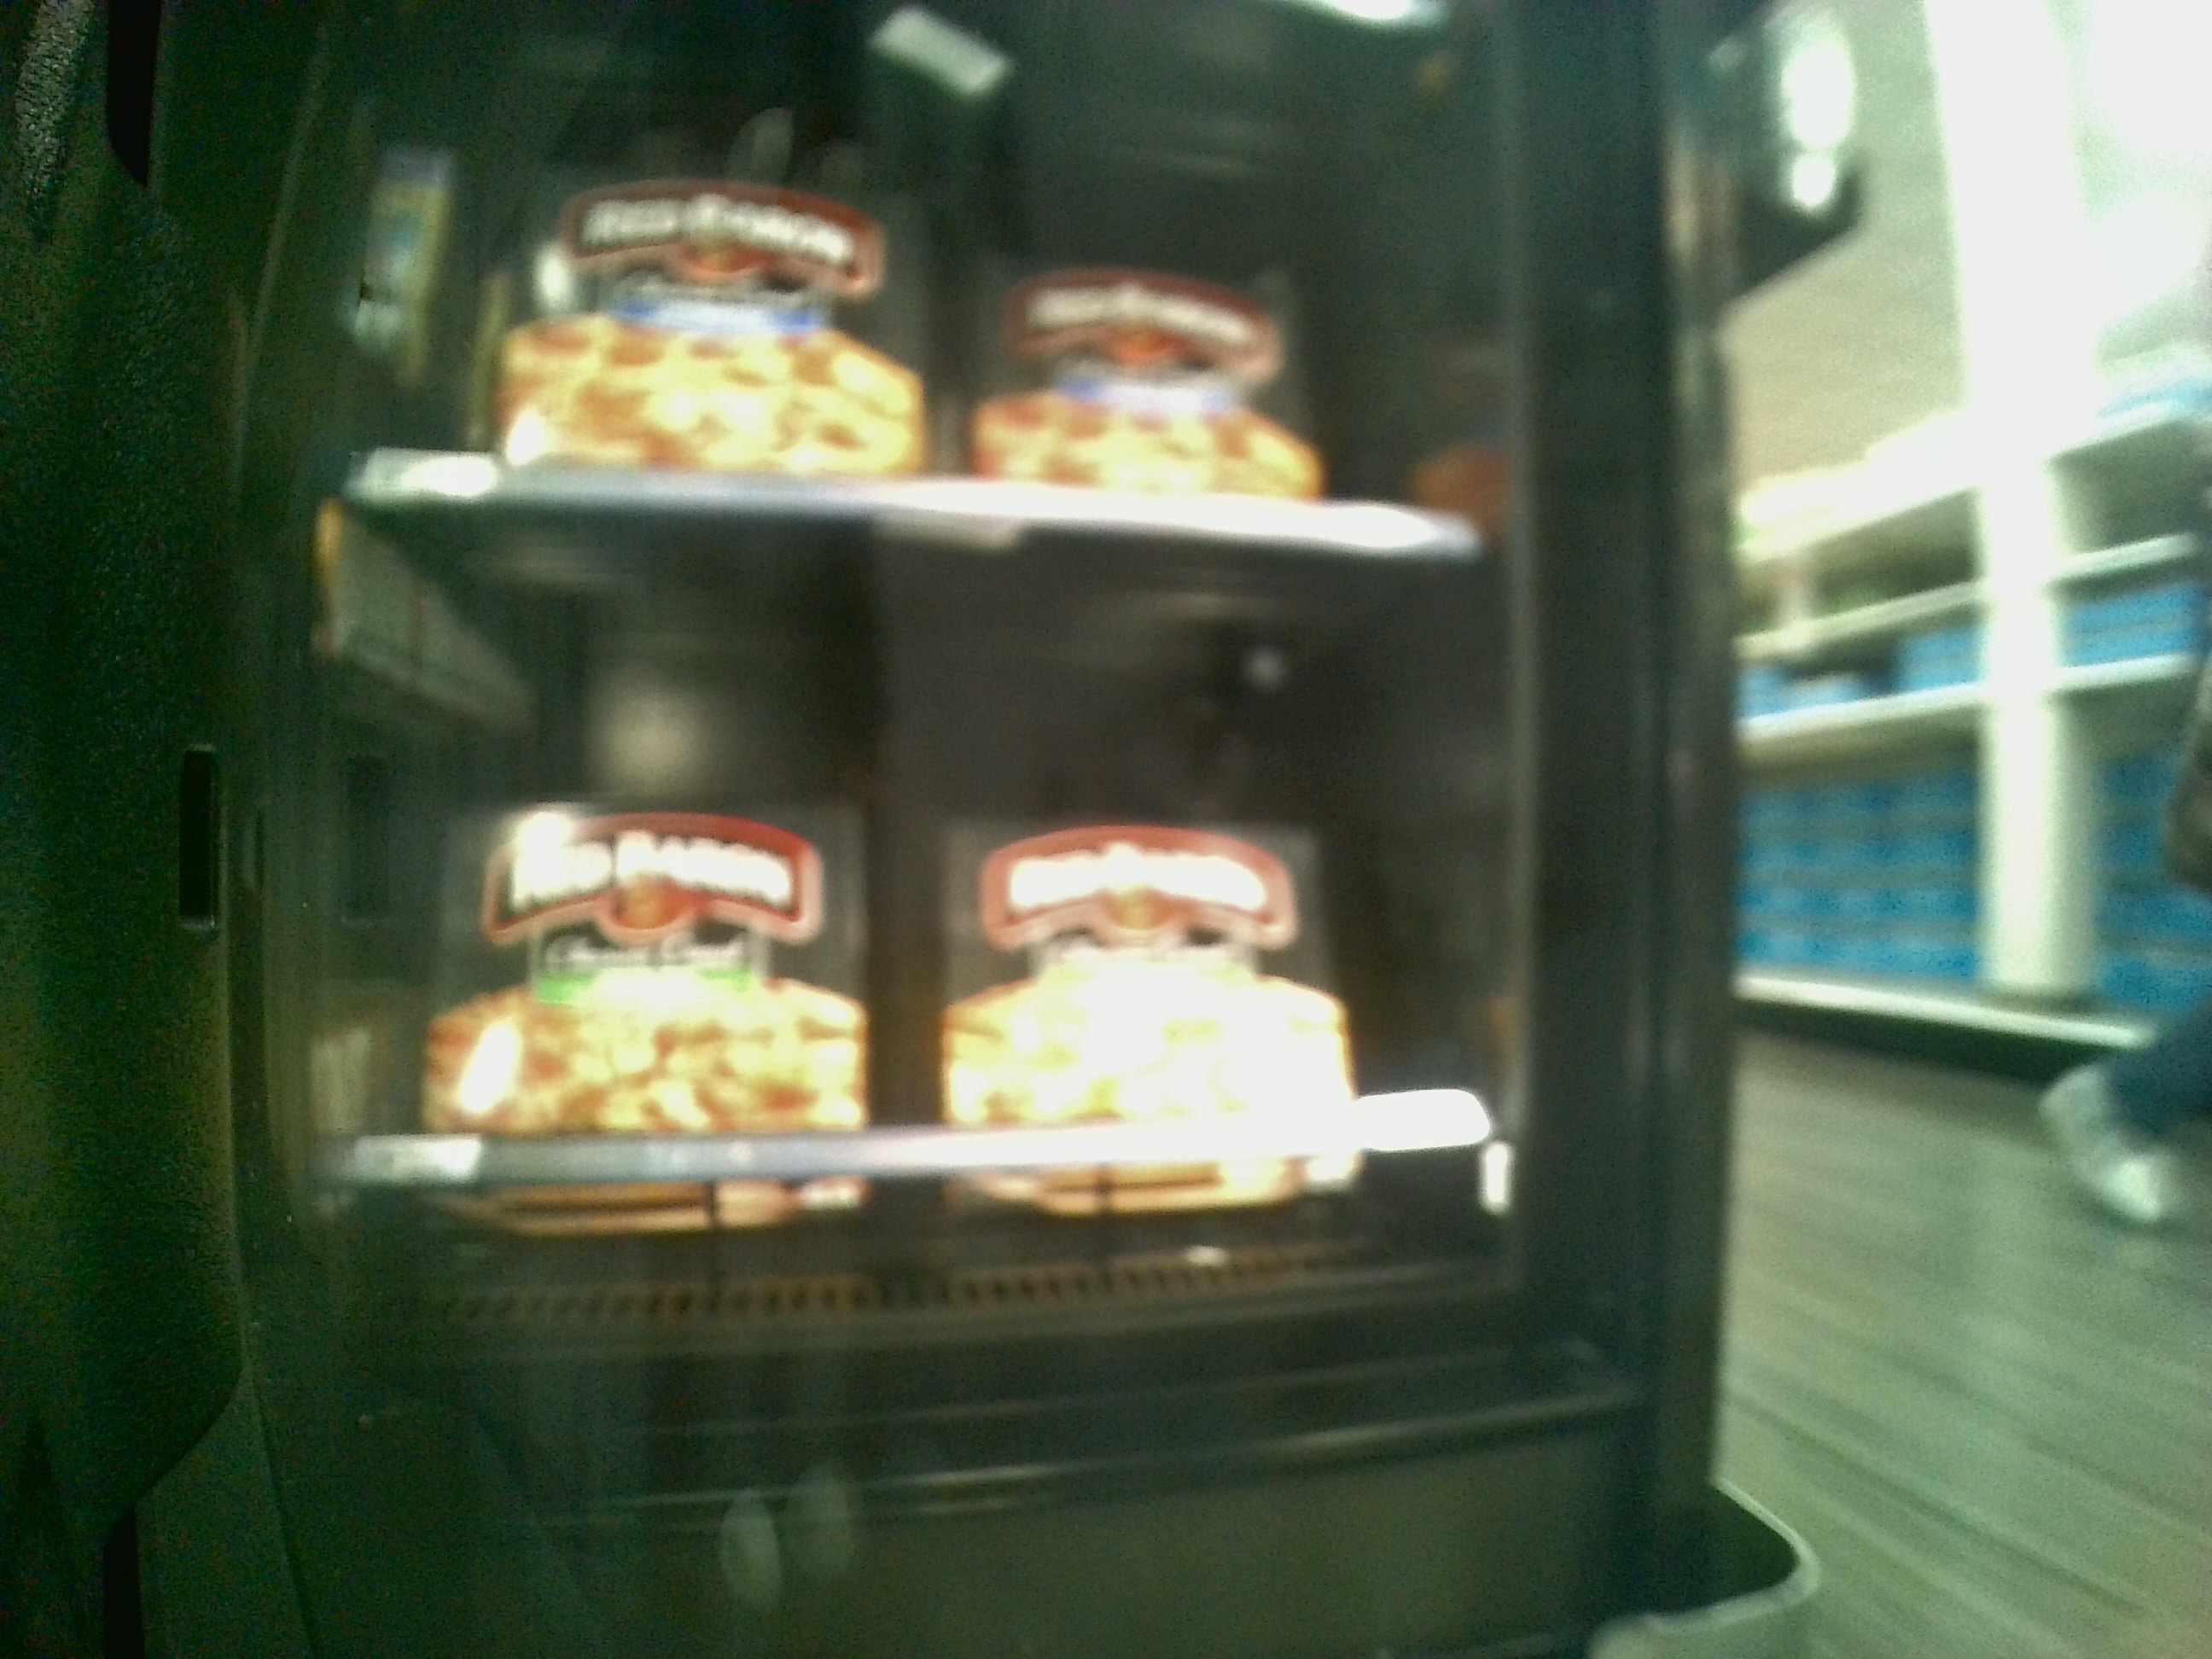shelf: (340, 509, 1491, 1283)
